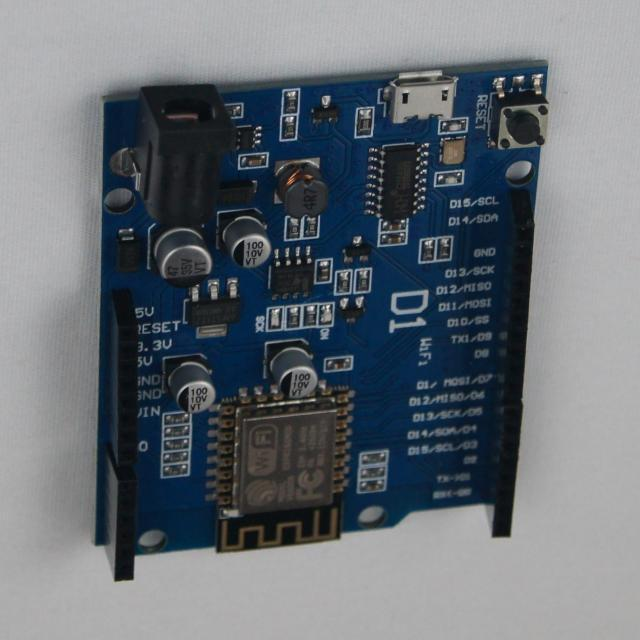Arduino Uno WiFi Shield: (96, 62, 549, 581)
